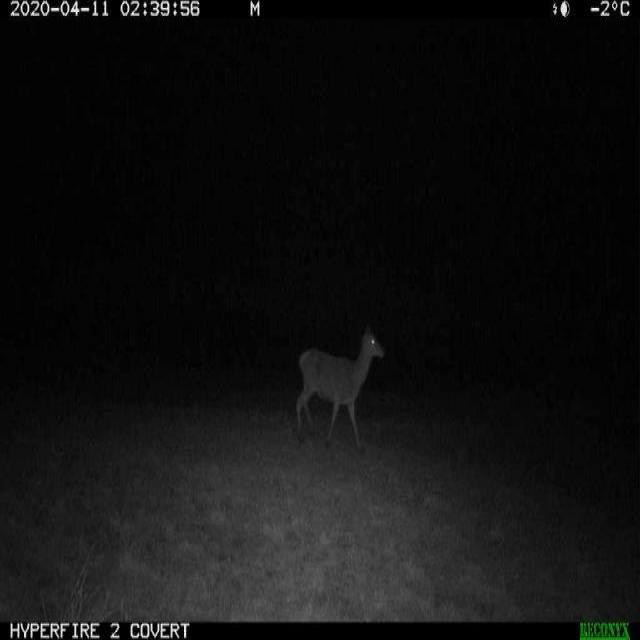deer: (293, 314, 391, 465)
